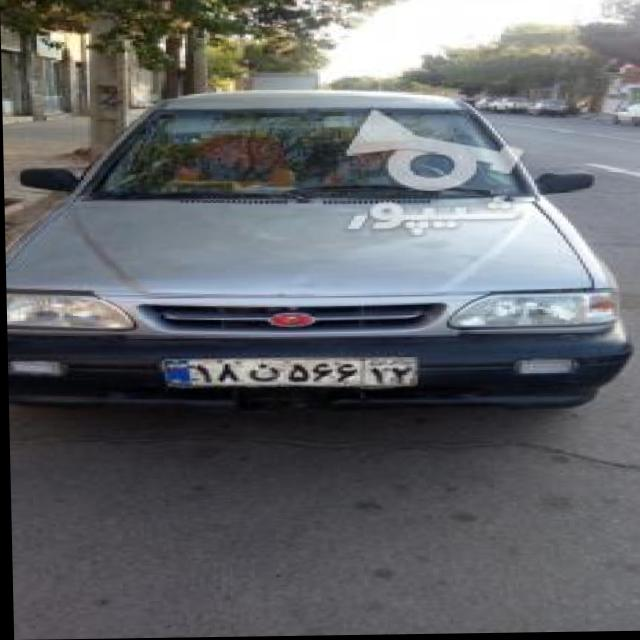licence: (155, 355, 416, 392)
